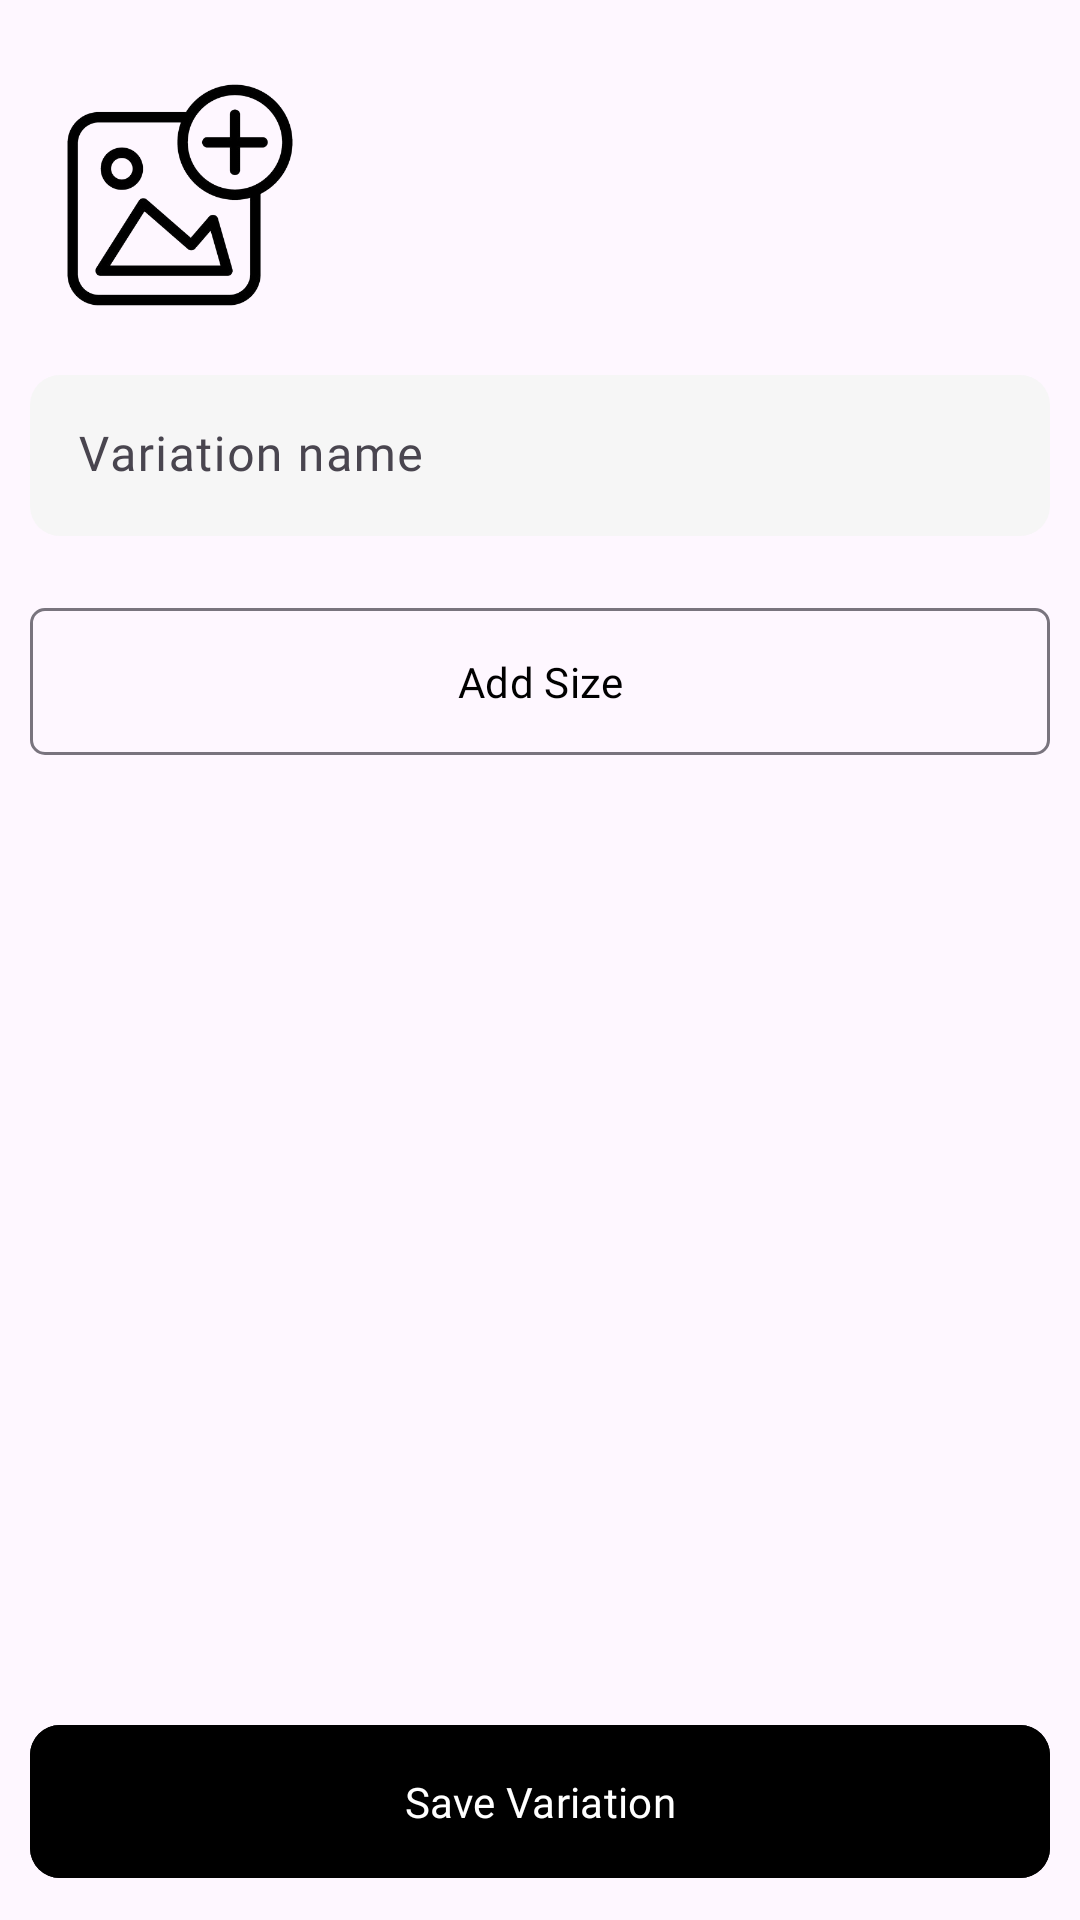

Where icons sit on this 1080 x 1920 app screen, as (x1, y1, x2, y2):
add: (67, 84, 293, 306)
